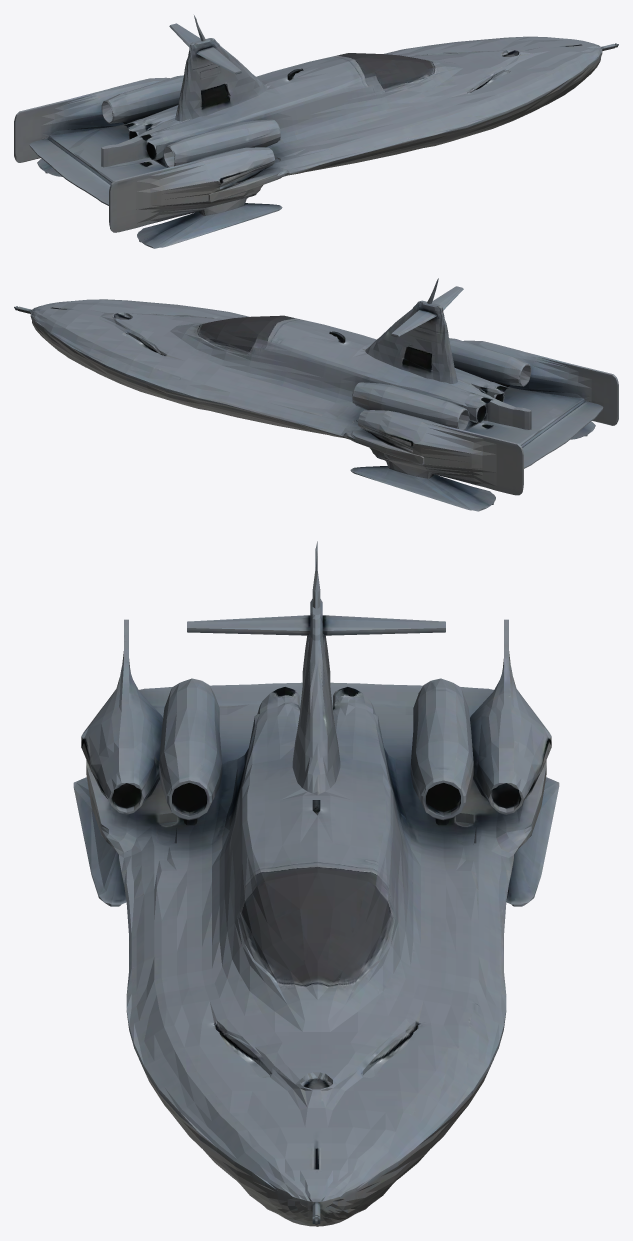
Rendered from stingray_LOD0.glb.
3 views of the same model, one above another, from view 1: azimuth 30°, elevation 25°; view 2: azimuth 150°, elevation 25°; view 3: azimuth 270°, elevation 25° (orthographic). The views are drawn at different scales.
Parts seen in each view (by area): view 1: stingray_LOD0; view 2: stingray_LOD0; view 3: stingray_LOD0.
Boxes of the visible parts, box(x1,y1,x2,y2) form: stingray_LOD0: box(14, 15, 618, 248); stingray_LOD0: box(14, 278, 618, 511); stingray_LOD0: box(73, 541, 559, 1226).
Size of the model in its own units: 1 by 0.3014 by 0.3777.
Materials: 1 (1 with a texture image).
